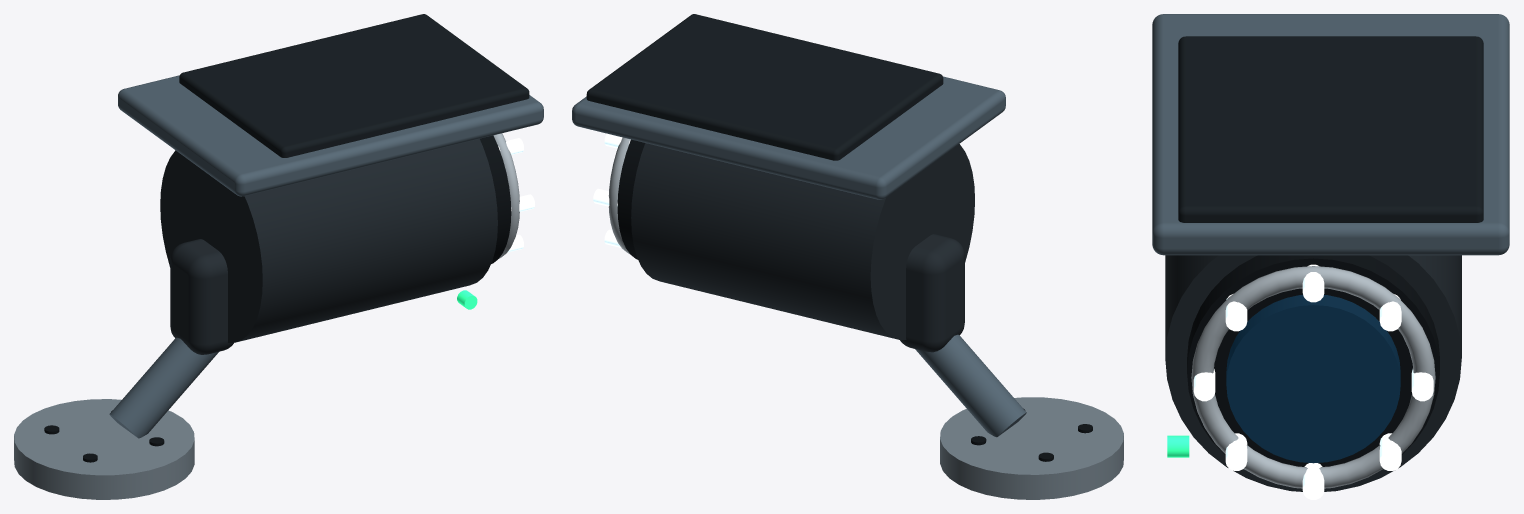
Rendered from cctv-camera.glb.
3 views of the same model, side by side, from view 1: azimuth 30°, elevation 25°; view 2: azimuth 150°, elevation 25°; view 3: azimuth 270°, elevation 25° (orthographic). The views are drawn at different scales.
Visible parts, largest first — view 1: Weatherproof camera housing, Premium weatherproof CCTV camera, Sun and rain shield, Wall mount, Adjustable bracket, Front bezel; view 2: Weatherproof camera housing, Premium weatherproof CCTV camera, Sun and rain shield, Wall mount, Adjustable bracket, Front bezel; view 3: Premium weatherproof CCTV camera, Sun and rain shield, 4K optical lens, Weatherproof camera housing, Front bezel, Infrared LED (×8), Camera status.
Part boxes in pixels (bbox=[...]): Weatherproof camera housing: bbox=[160, 139, 497, 342]; Premium weatherproof CCTV camera: bbox=[109, 14, 529, 438]; Sun and rain shield: bbox=[118, 75, 543, 196]; Wall mount: bbox=[14, 399, 194, 499]; Adjustable bracket: bbox=[170, 239, 233, 354]; Front bezel: bbox=[480, 135, 511, 263]; Weatherproof camera housing: bbox=[631, 143, 974, 339]; Premium weatherproof CCTV camera: bbox=[586, 14, 1026, 437]; Sun and rain shield: bbox=[572, 76, 1005, 199]; Wall mount: bbox=[940, 397, 1123, 499]; Adjustable bracket: bbox=[900, 234, 964, 352]; Front bezel: bbox=[617, 139, 644, 259]; Premium weatherproof CCTV camera: bbox=[1178, 36, 1483, 488]; Sun and rain shield: bbox=[1152, 14, 1509, 255]; 4K optical lens: bbox=[1226, 294, 1400, 463]; Weatherproof camera housing: bbox=[1165, 255, 1461, 491]; Front bezel: bbox=[1187, 255, 1439, 466]; Infrared LED (×8): bbox=[1193, 264, 1433, 499]; Camera status: bbox=[1167, 435, 1189, 457].
Size of the model in its own units: 1.79 by 1.16 by 0.82.
